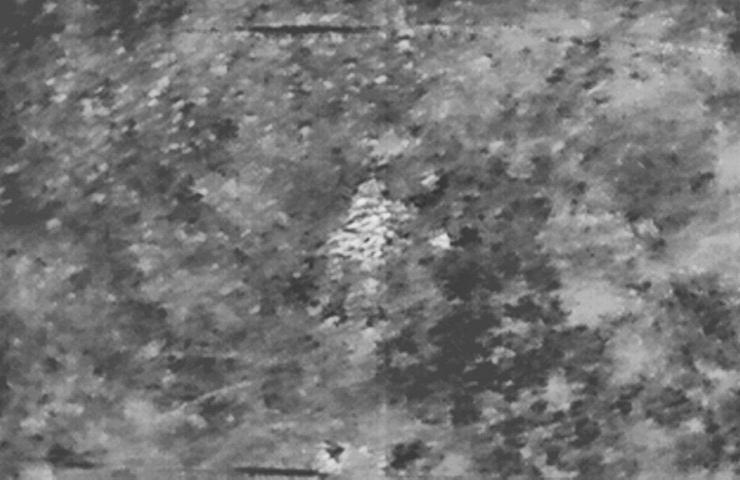landmines: (325, 177, 407, 271)
